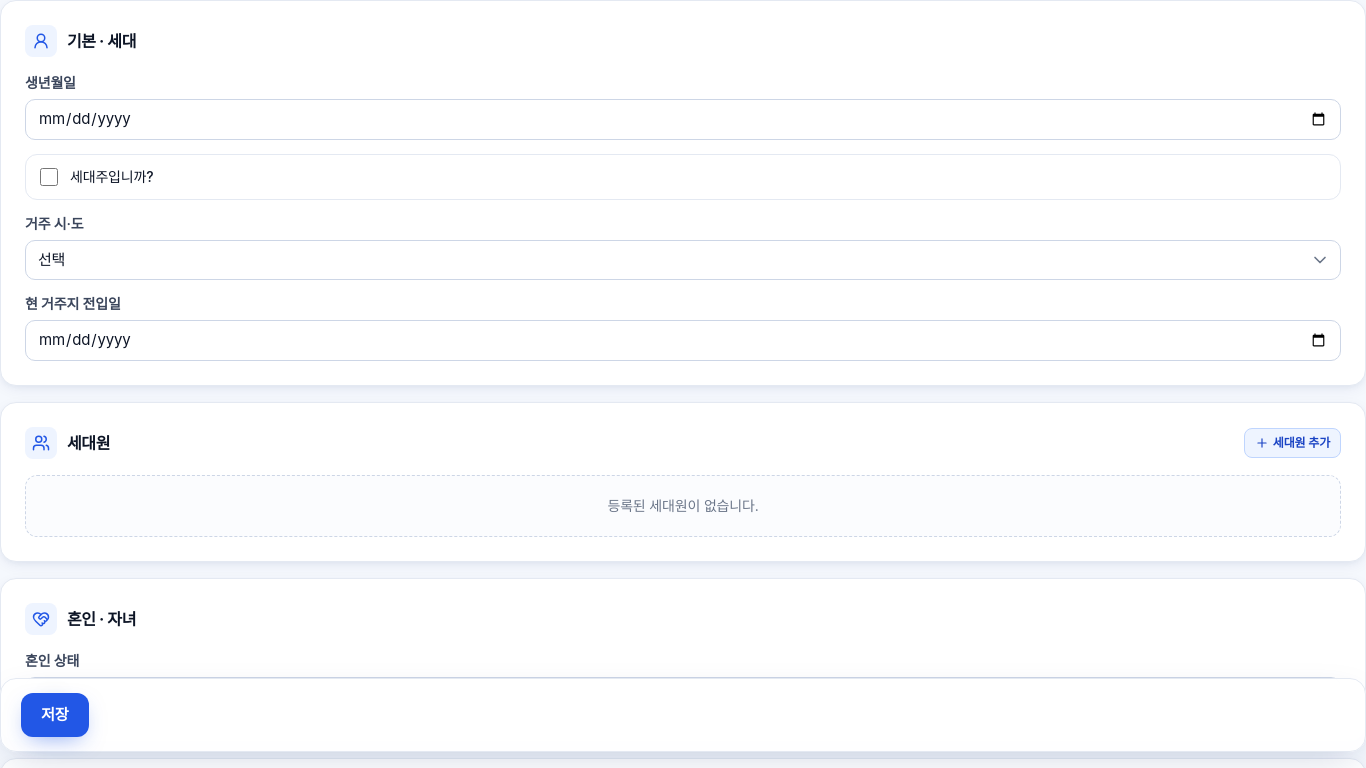
Test: ProfileForm › 서버가 message를 주면 화면에 그대로 보여준다
This screenshot has width=1366, height=768.
Click the button "저장".
click(55, 715)  # box [21, 693, 89, 737]
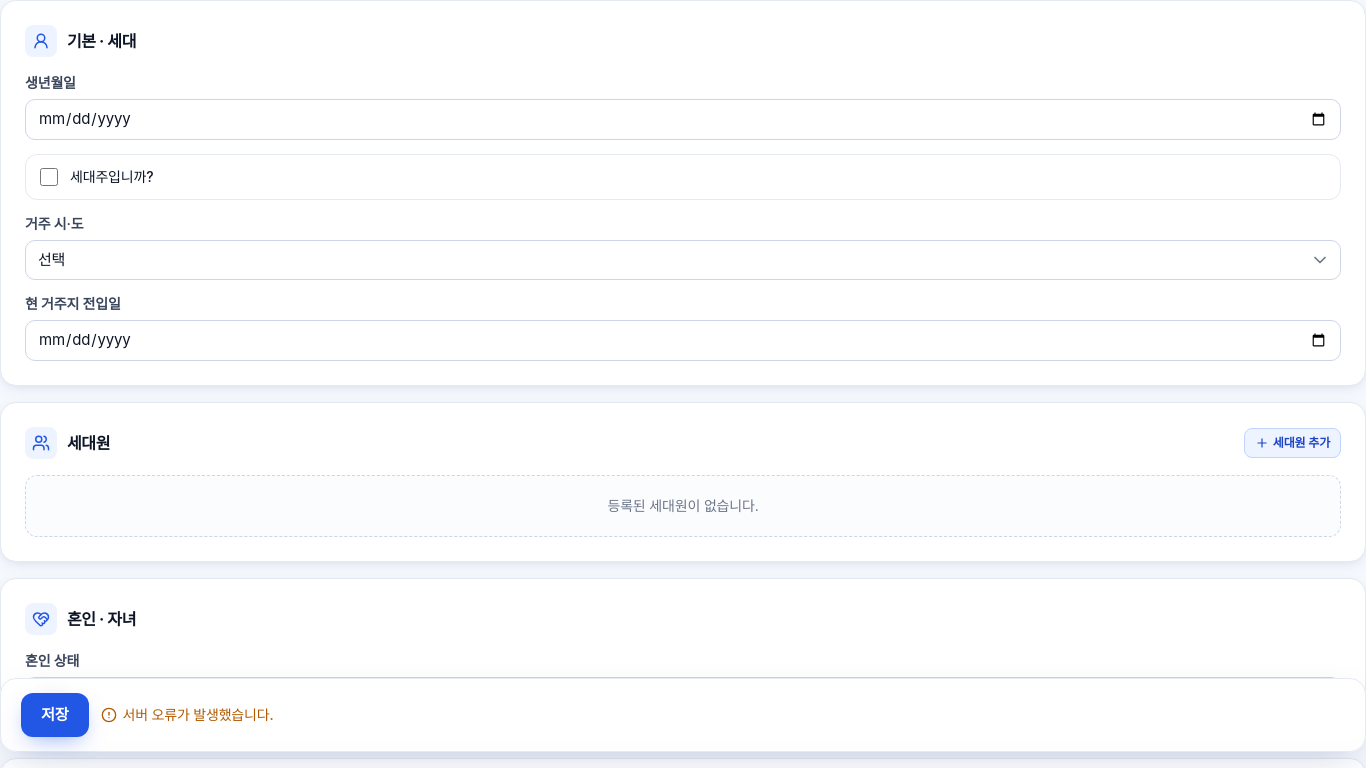
Now the text "서버 오류가 발생했습니다." is shown, box [101, 705, 274, 725]
